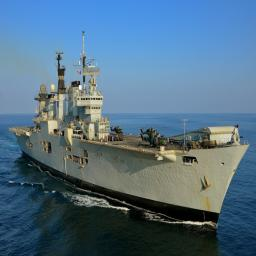Portanaves: (7, 28, 253, 236)
